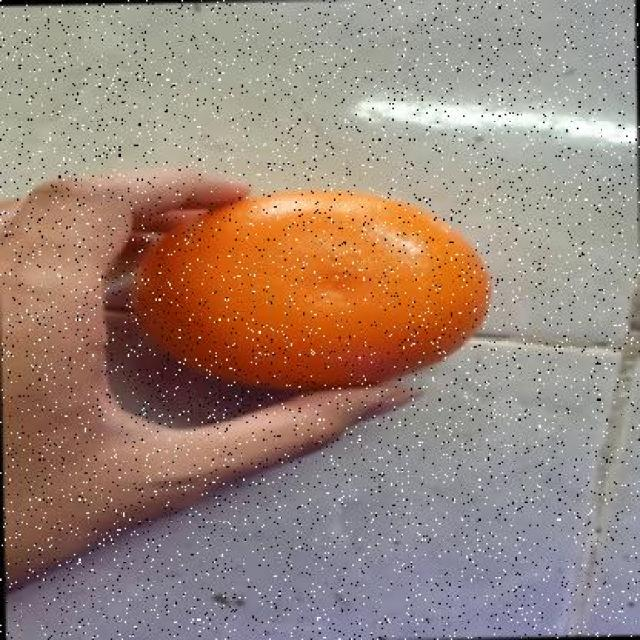Orange: (131, 186, 492, 391)
